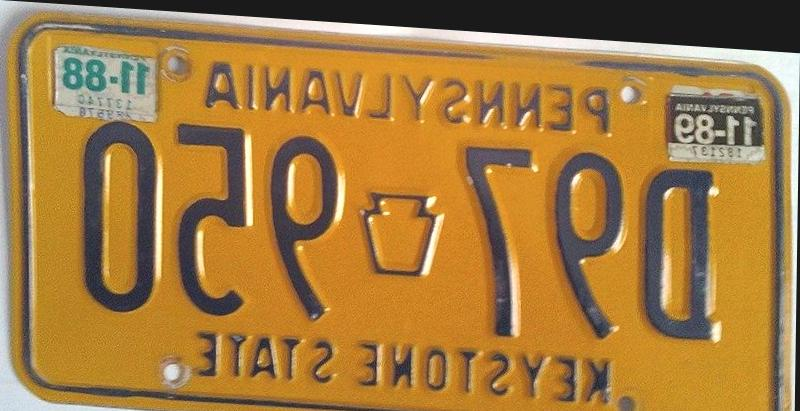License_Plate: (27, 20, 790, 411)
